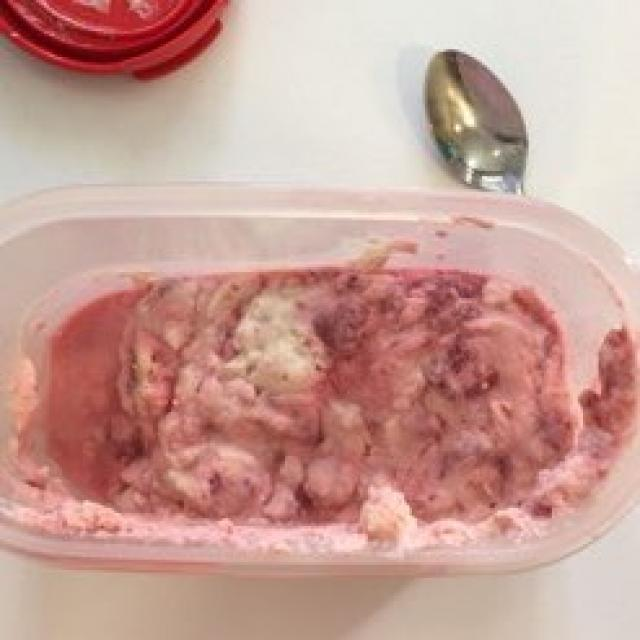cream: (16, 272, 614, 547)
